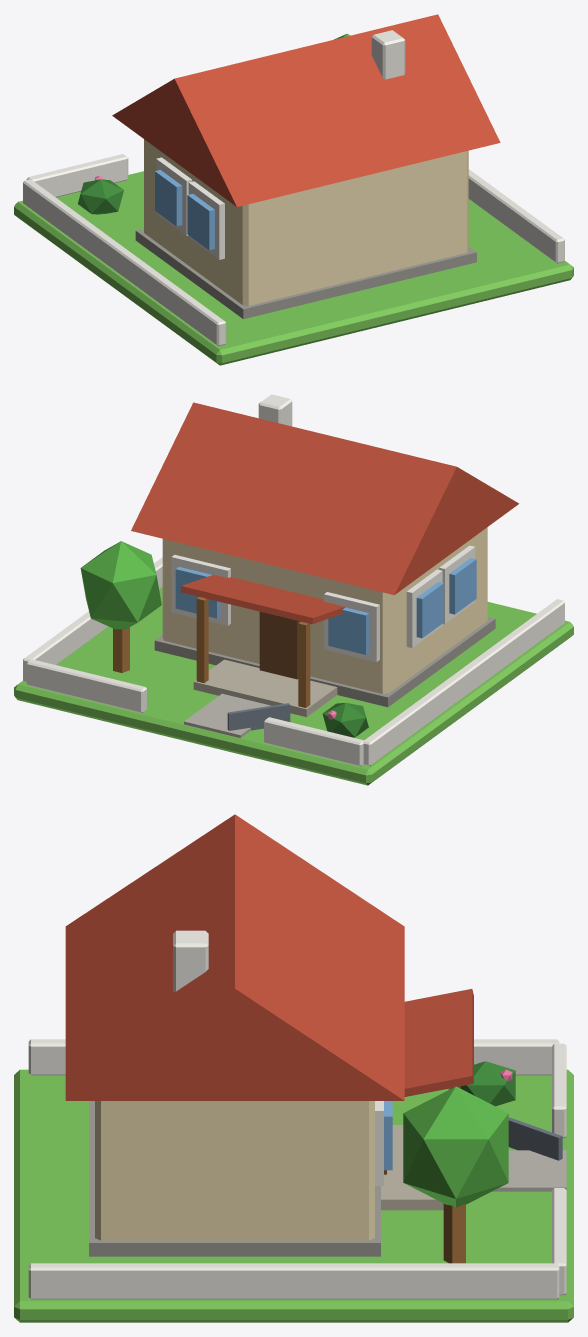
Rendered from casa_simples.glb.
3 views of the same model, one above another, from view 1: azimuth 30°, elevation 25°; view 2: azimuth 150°, elevation 25°; view 3: azimuth 270°, elevation 25° (orthographic). The views are drawn at different scales.
Parts seen in each view (by area): view 1: corpo; view 2: corpo; view 3: corpo.
Boxes of the visible parts, x1=… form: corpo: x1=14, y1=14, x2=573, y2=365; corpo: x1=14, y1=394, x2=573, y2=785; corpo: x1=14, y1=814, x2=573, y2=1322.
Size of the model in its own units: 1.9 by 1.15 by 1.9.
